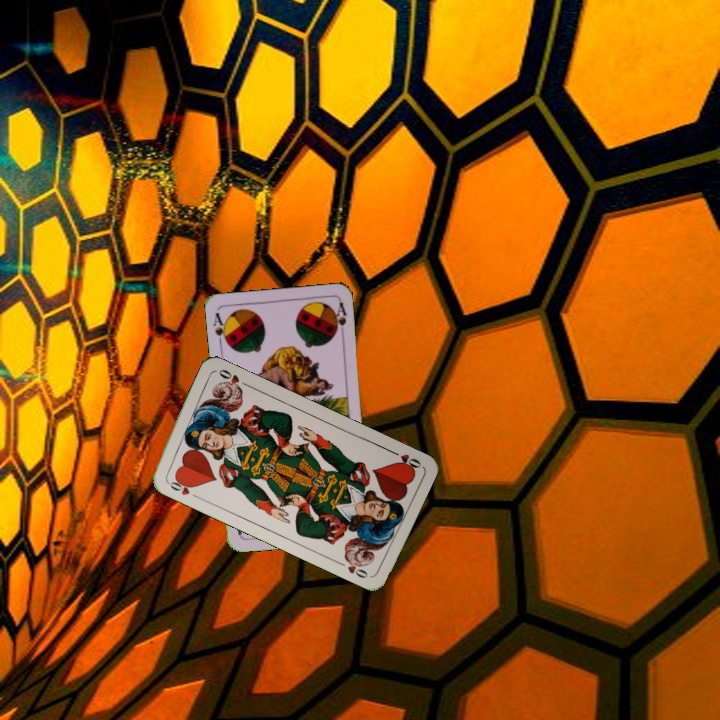HO: (162, 474, 201, 501), (385, 446, 424, 473)
SA: (209, 308, 231, 349)
